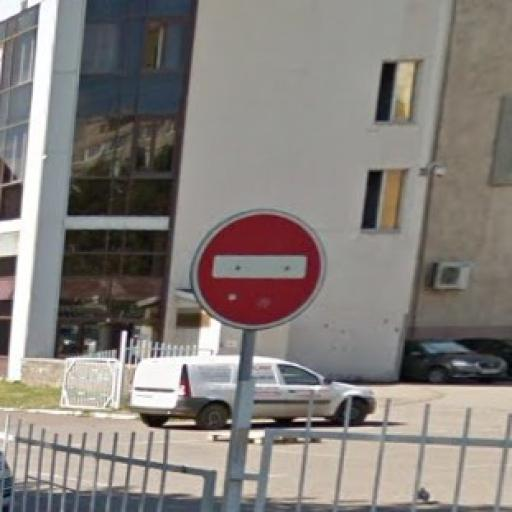traffic_sign: (187, 205, 330, 333)
